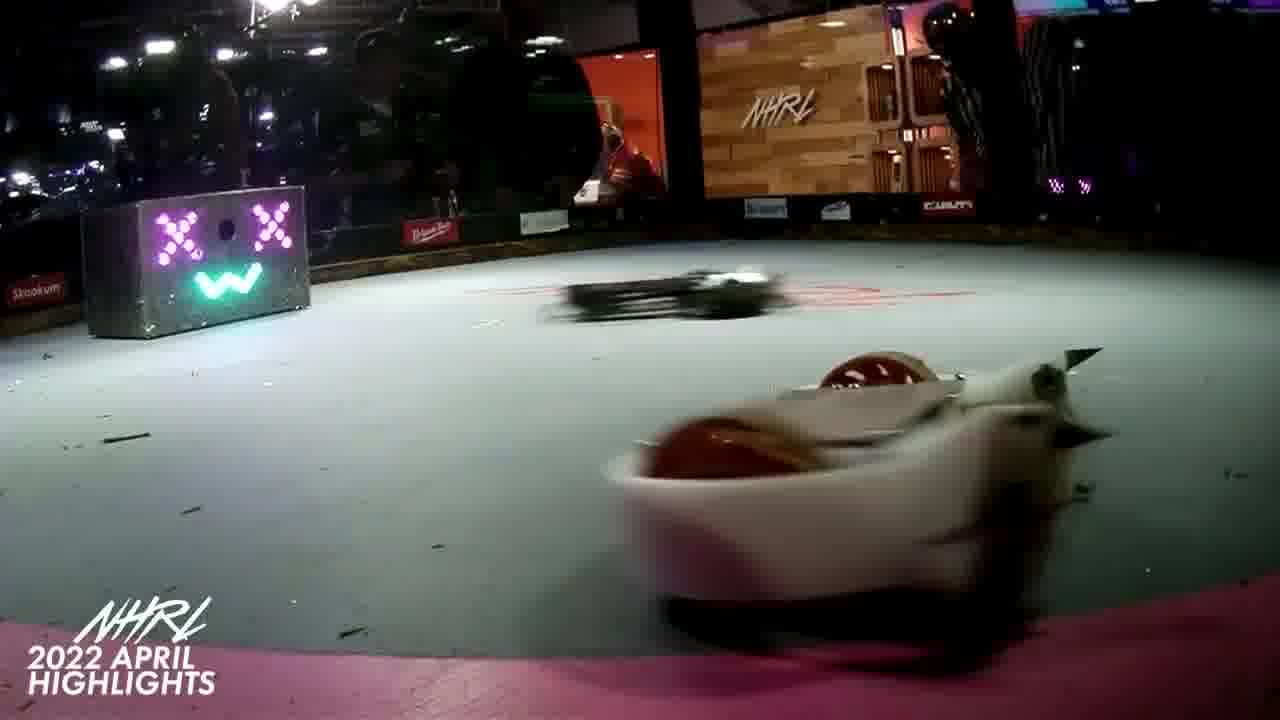combatbot: (625, 349, 1071, 607), (566, 270, 771, 322)
housebot: (82, 188, 314, 341)
